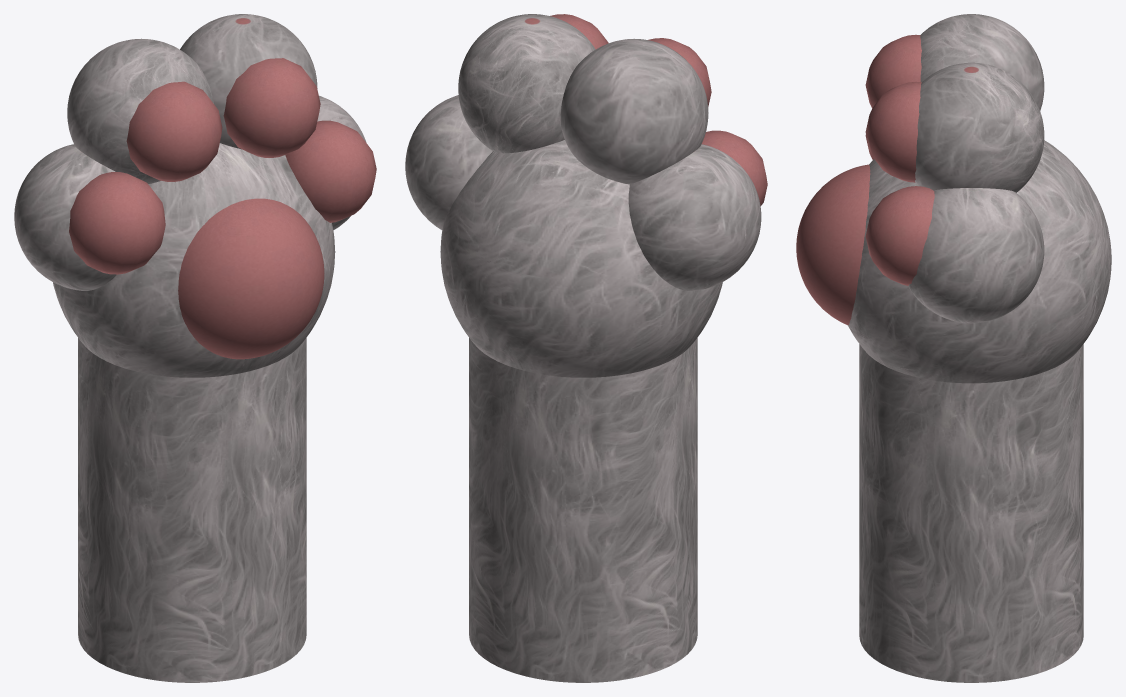
File: 3d_cat_paw_obstacle.glb
3 views of the same model, side by side, from view 1: azimuth 30°, elevation 25°; view 2: azimuth 150°, elevation 25°; view 3: azimuth 270°, elevation 25° (orthographic).
Visible parts, largest first — view 1: Paw_1; view 2: Paw_1; view 3: Paw_1.
Boxes of the visible parts, left/top/right/bottom form: Paw_1: left=14, top=14, right=376, bottom=682; Paw_1: left=405, top=14, right=767, bottom=682; Paw_1: left=796, top=14, right=1111, bottom=682.
Size of the model in its own units: 136 by 232 by 112.
1 material, 1 textured.
